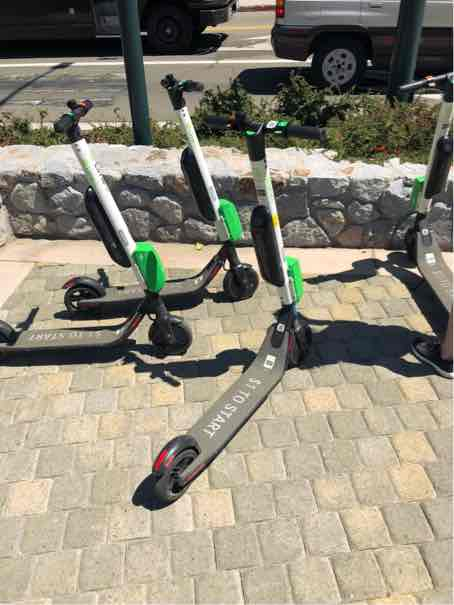scooter: (144, 110, 334, 517), (1, 93, 197, 368), (47, 72, 263, 321)
